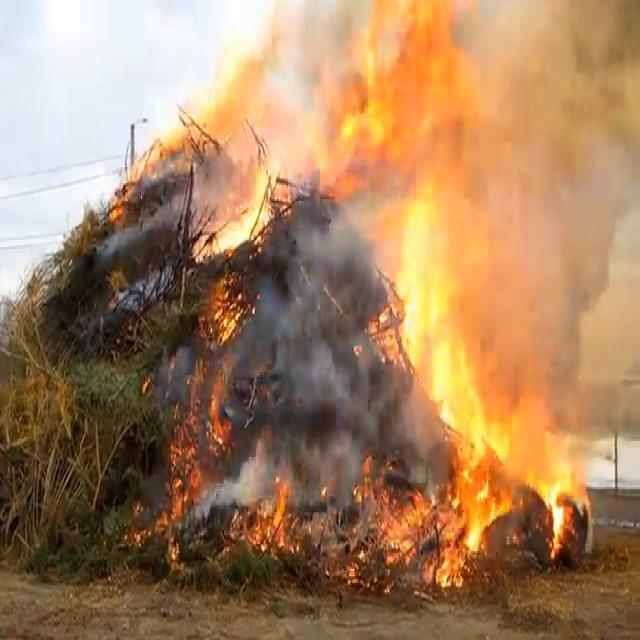fire: (377, 0, 479, 128), (498, 221, 574, 347), (358, 119, 482, 189), (486, 350, 568, 446), (342, 22, 414, 117), (228, 50, 300, 124), (268, 12, 336, 88), (370, 182, 448, 248), (285, 112, 355, 182), (453, 194, 503, 274), (454, 281, 506, 349), (398, 239, 453, 292), (438, 351, 484, 414), (196, 90, 247, 140), (504, 438, 558, 480), (408, 305, 450, 350), (231, 163, 265, 216), (550, 461, 586, 504), (206, 213, 242, 247), (460, 402, 487, 446), (468, 499, 486, 538)
smoke: (578, 152, 638, 227), (588, 215, 632, 298), (402, 394, 432, 453), (295, 212, 326, 266), (358, 356, 384, 416), (305, 346, 332, 396), (326, 358, 352, 408), (320, 231, 352, 269), (337, 433, 358, 488), (258, 288, 282, 330), (305, 452, 331, 490), (342, 193, 365, 230), (248, 456, 270, 494), (202, 168, 216, 199), (229, 482, 252, 498)
